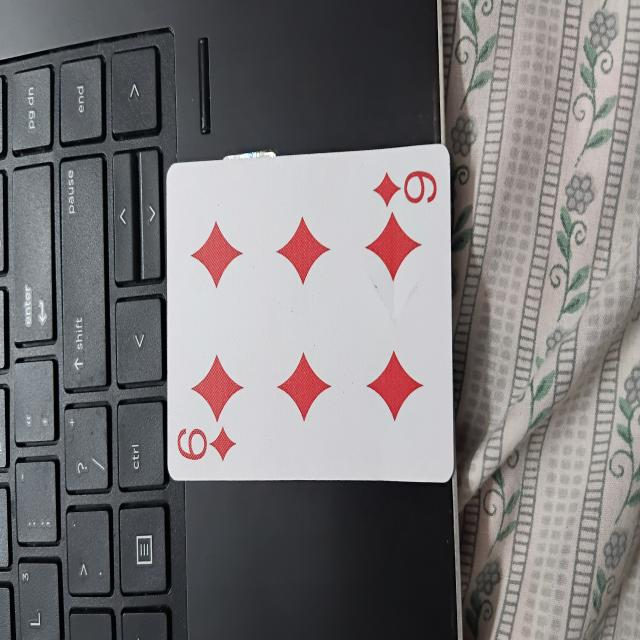6D: (163, 162, 452, 484)
